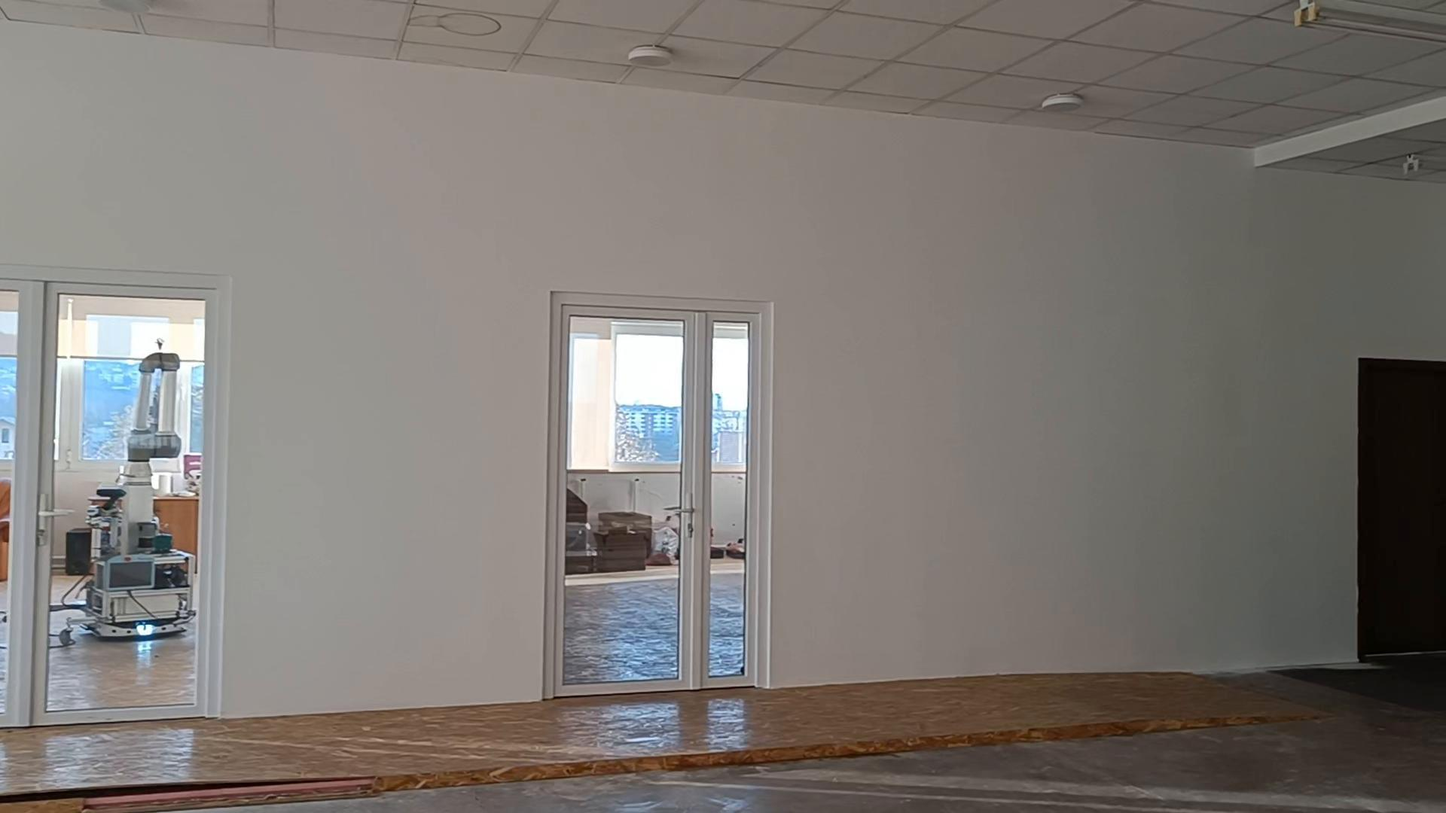ceiling: (0, 0, 1445, 146)
floor: (0, 656, 1445, 812)
wall: (0, 23, 1445, 715)
